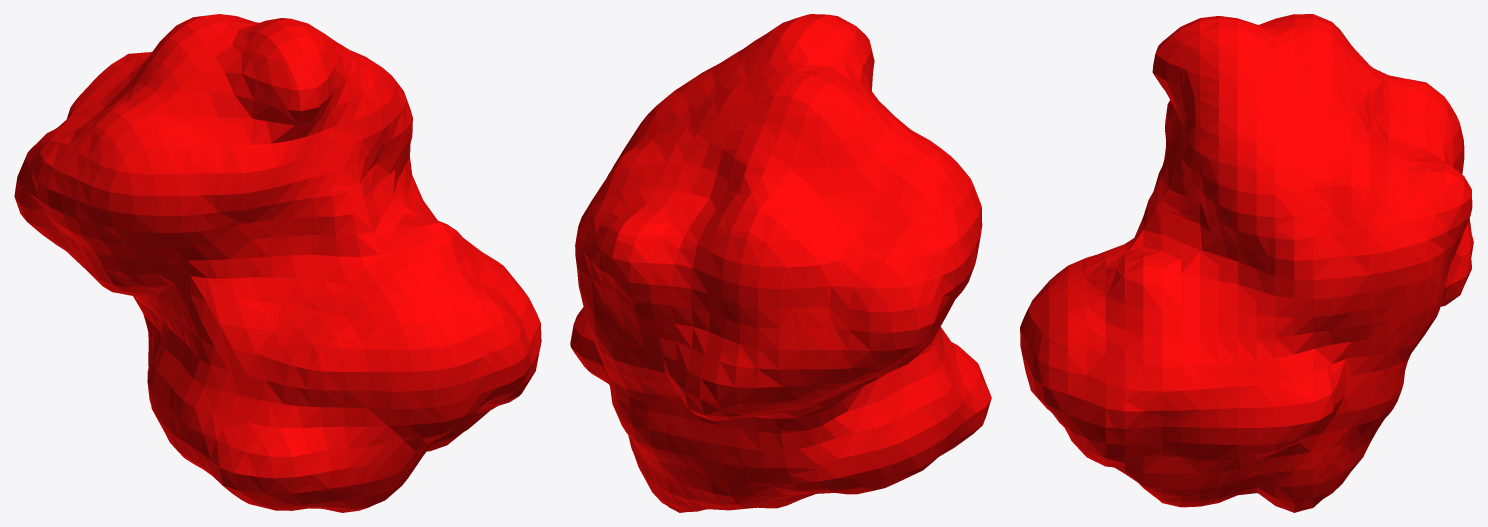
The model's file is msrC_coarse.dae.
3 views of the same model, side by side, from view 1: azimuth 30°, elevation 25°; view 2: azimuth 150°, elevation 25°; view 3: azimuth 270°, elevation 25° (orthographic). The views are drawn at different scales.
Visible parts, largest first — view 1: msrC; view 2: msrC; view 3: msrC.
Part boxes in pixels (<box>): msrC: <box>14,14,541,512</box>; msrC: <box>570,14,991,512</box>; msrC: <box>1020,14,1473,512</box>.
Bounding box in the file's own units: 52.32 × 58.28 × 53.23.
